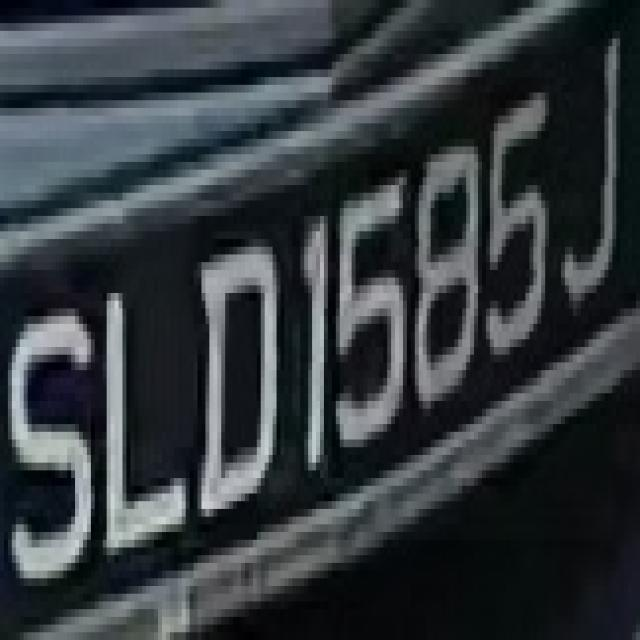1: (296, 178, 336, 502)
5: (482, 70, 557, 386), (340, 185, 411, 455)
8: (403, 123, 482, 409)
D: (186, 247, 284, 524)
J: (557, 8, 640, 316)
L: (94, 247, 194, 570)
S: (8, 270, 95, 601)
